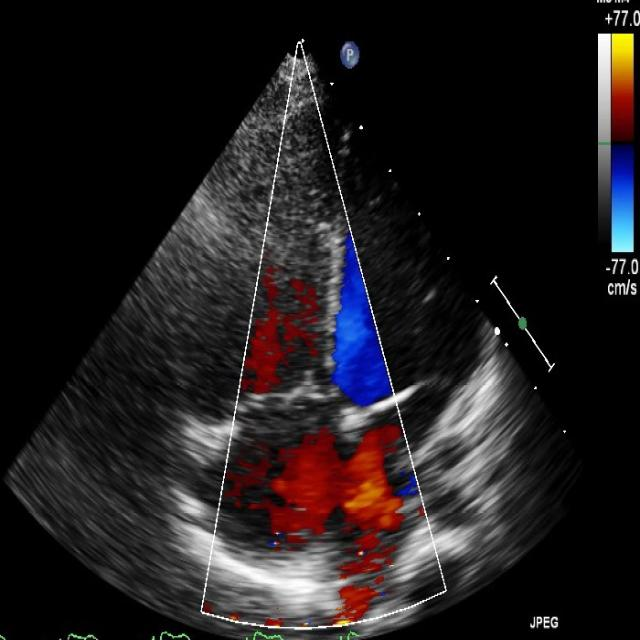ASDType2: (234, 416, 410, 624)
